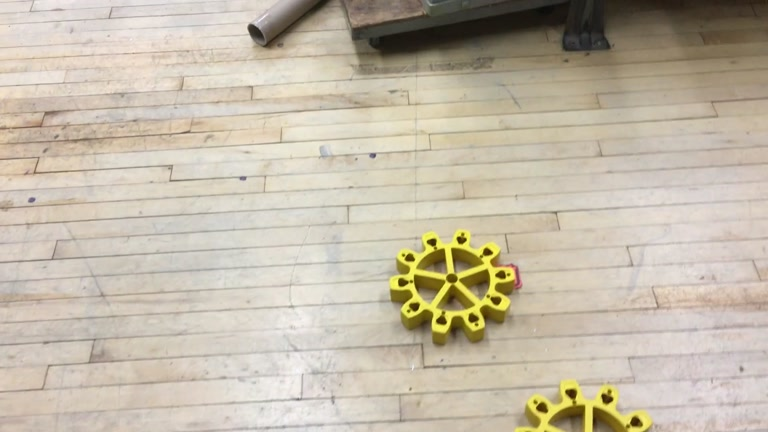gear: (388, 228, 518, 346), (514, 380, 662, 432)
